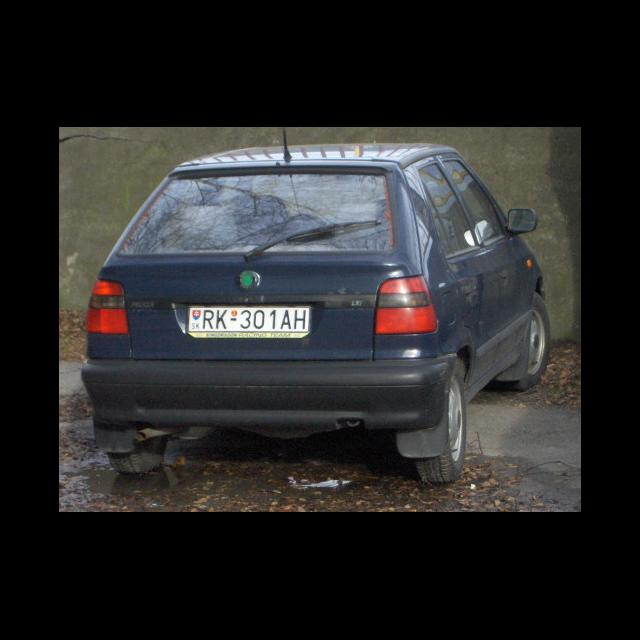Plate: (185, 304, 312, 336)
